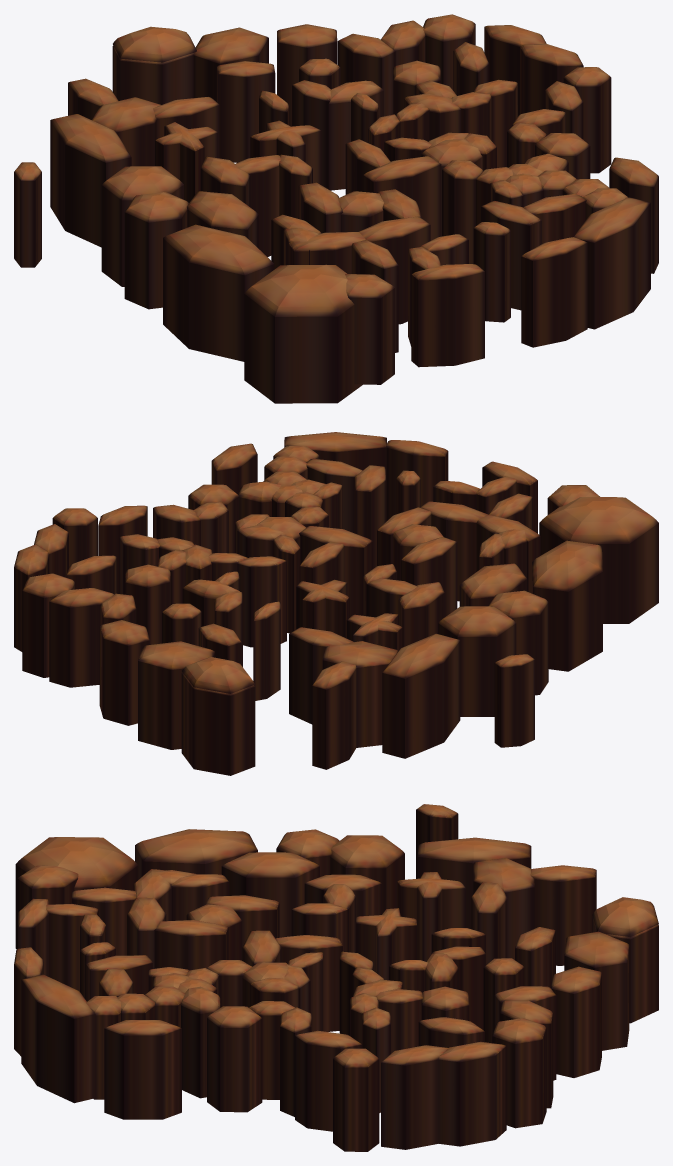
The model's file is florestacopy.fbx.
3 renders of one model, top to bottom at view 1: azimuth 30°, elevation 25°; view 2: azimuth 150°, elevation 25°; view 3: azimuth 270°, elevation 25°, orthographic. The views are drawn at different scales.
Visible parts, largest first — view 1: Cylinder.460; view 2: Cylinder.460; view 3: Cylinder.460.
Boxes of the visible parts, x1,y1,x2,y2 form: Cylinder.460: (14,14,658,403); Cylinder.460: (14,432,658,775); Cylinder.460: (14,804,658,1151).
Size of the model in its own units: 74186 by 14132 by 77423.
Materials: 80 (80 with a texture image).
